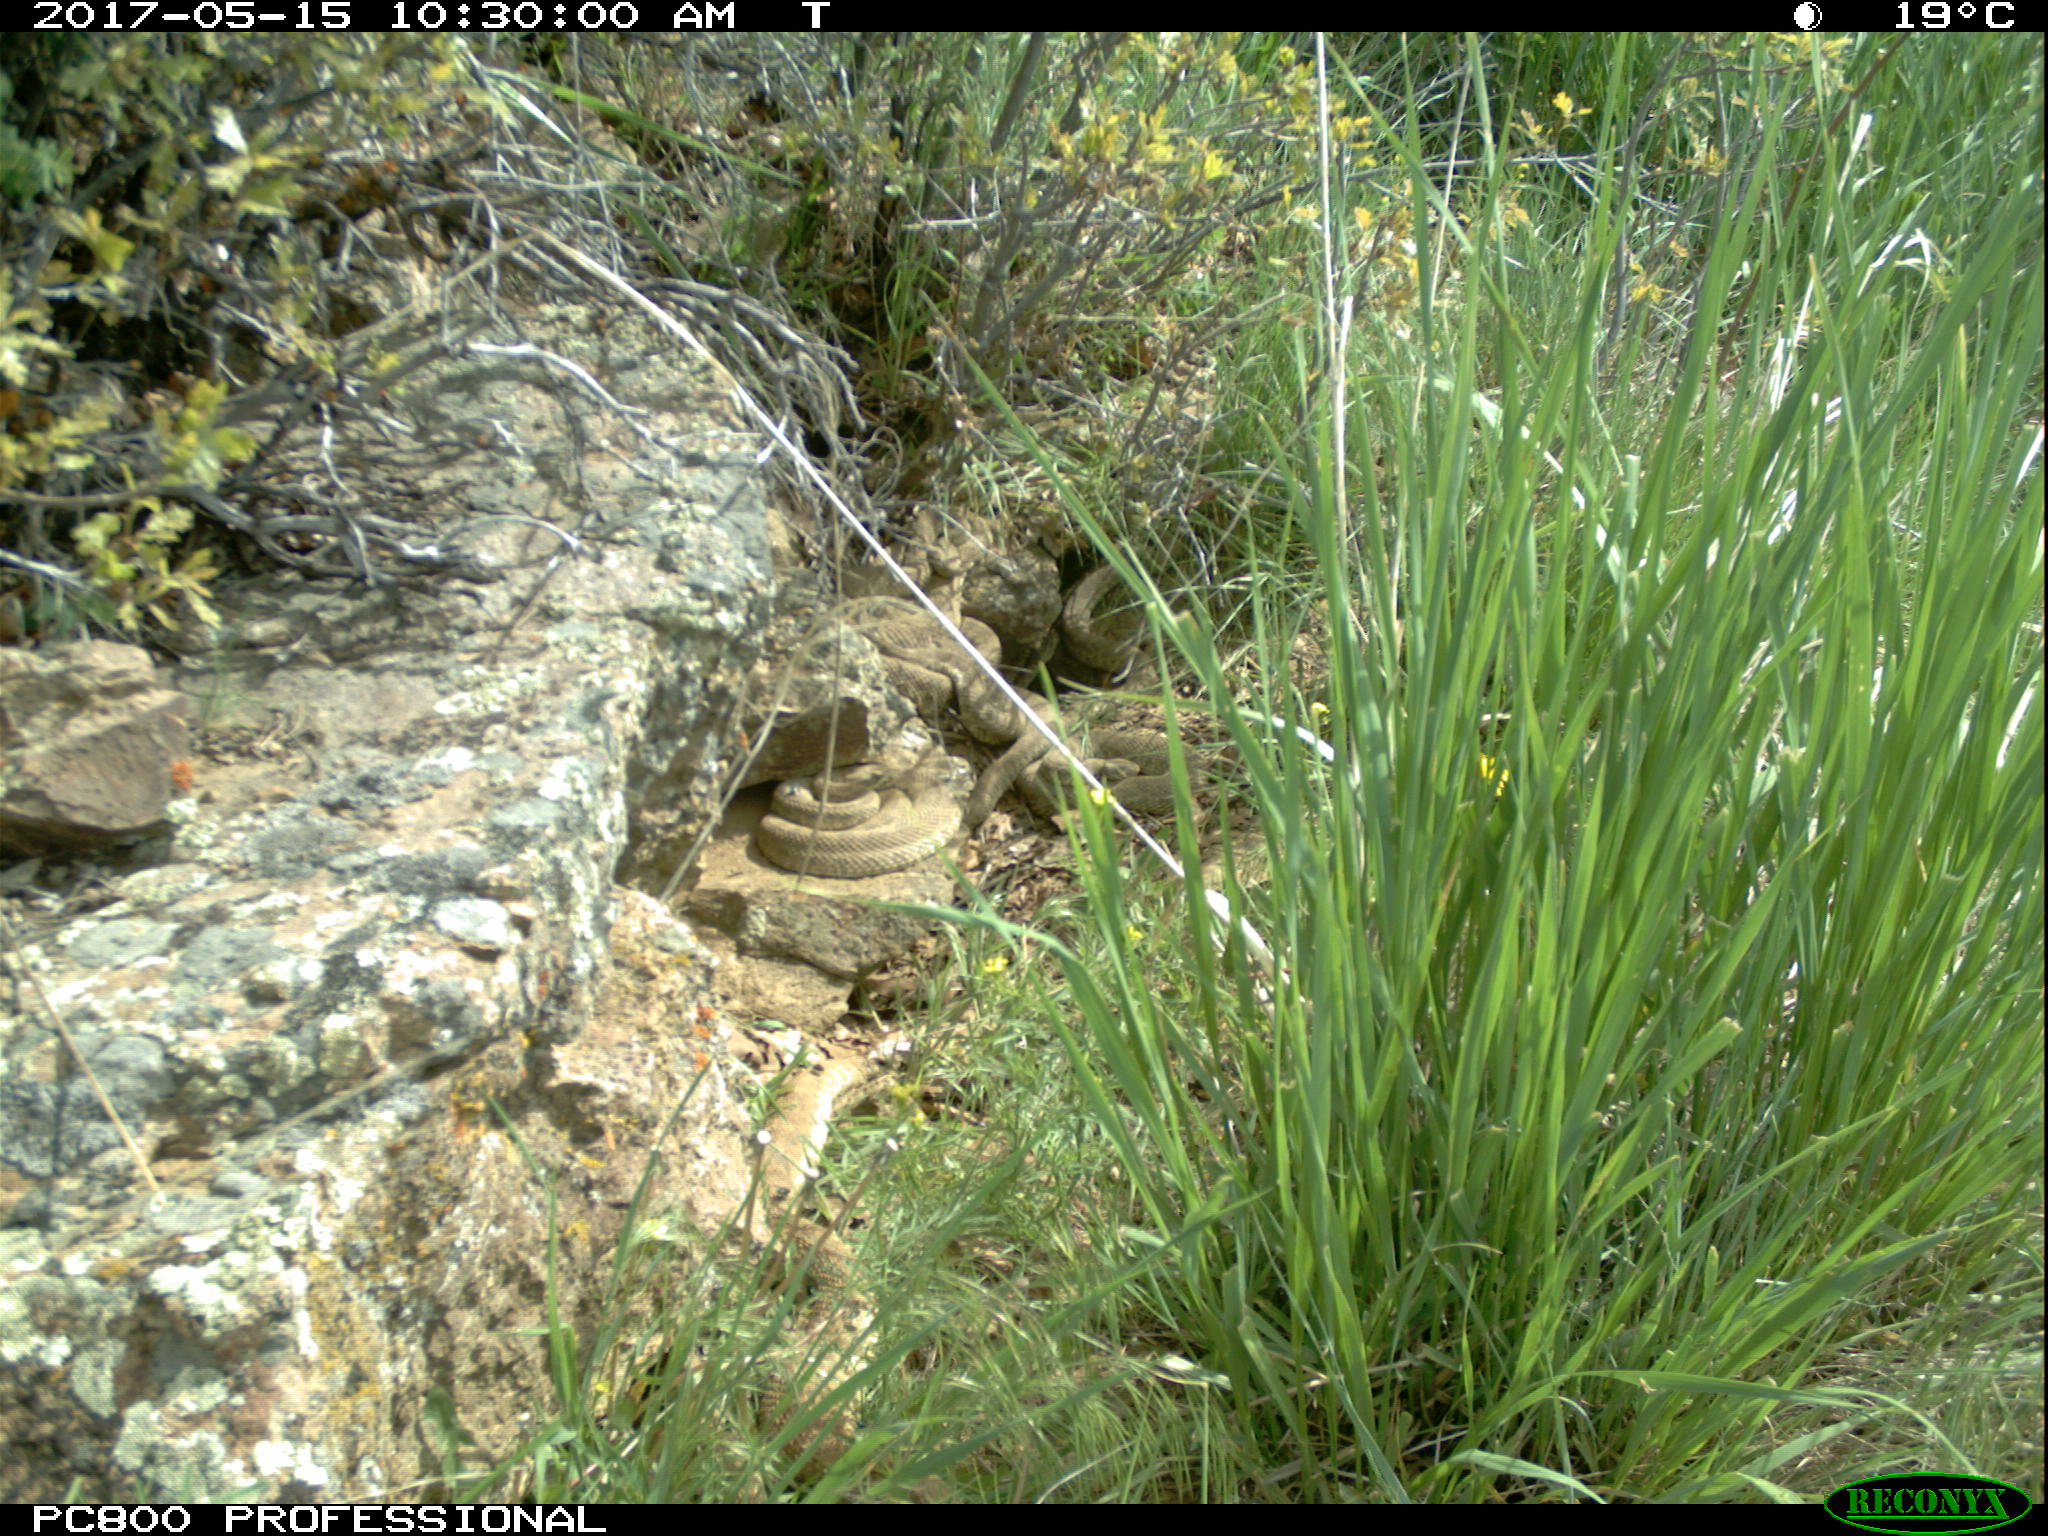snake: (748, 1041, 866, 1489), (753, 770, 959, 879), (842, 600, 1021, 718), (1043, 726, 1206, 818), (964, 684, 1063, 820), (1055, 558, 1150, 679)
